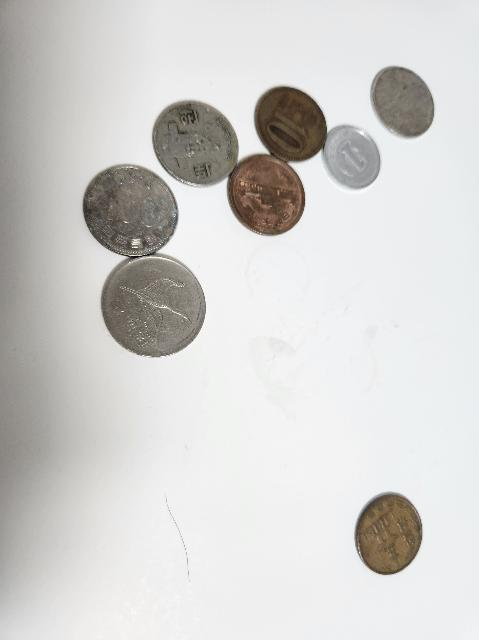coin: (99, 254, 207, 362), (80, 161, 186, 257), (218, 154, 318, 236), (151, 96, 240, 184), (351, 484, 425, 576), (372, 65, 438, 139), (260, 86, 324, 162), (324, 122, 384, 188)
